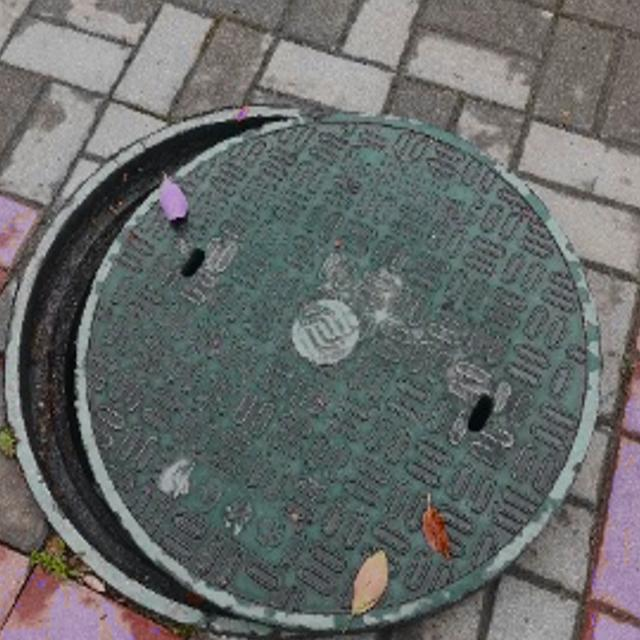uncovered: (3, 106, 602, 635)
